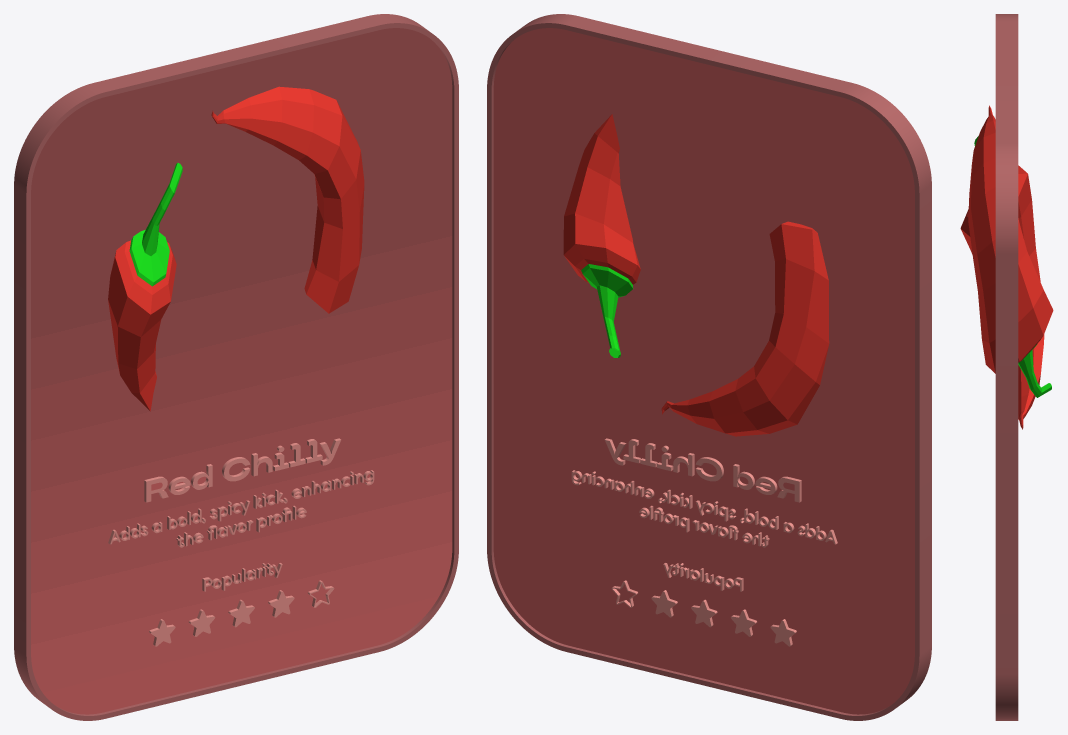
Rendered from red chilly.gltf.
The picture shows the model from 3 angles, left to right: view 1: azimuth 30°, elevation 25°; view 2: azimuth 150°, elevation 25°; view 3: azimuth 270°, elevation 25°; orthographic projection. The views are drawn at different scales.
Parts seen in each view (by area): view 1: Mesh_1024.002, Mesh_2361.002, Chili_Pepper_01.001, Mesh_2407.002, Mesh_2293.002, Mesh_2671.001; view 2: Mesh_1024.002, Chili_Pepper_01.001, Mesh_2361.002, Mesh_2407.002, Mesh_2293.002, Mesh_2671.001; view 3: Mesh_2361.002, Chili_Pepper_01.001.
Part boxes in pixels (x1,y1,x2,y2): Mesh_1024.002: (31, 28, 452, 714); Mesh_2361.002: (14, 14, 458, 720); Chili_Pepper_01.001: (108, 86, 364, 411); Mesh_2407.002: (108, 470, 374, 591); Mesh_2293.002: (144, 438, 340, 502); Mesh_2671.001: (149, 580, 334, 646); Mesh_1024.002: (493, 28, 914, 714); Chili_Pepper_01.001: (563, 114, 829, 436); Mesh_2361.002: (487, 14, 931, 720); Mesh_2407.002: (571, 470, 837, 591); Mesh_2293.002: (605, 438, 801, 502); Mesh_2671.001: (611, 580, 796, 646); Mesh_2361.002: (995, 14, 1018, 720); Chili_Pepper_01.001: (960, 105, 1053, 429).
Bounding box in the file's own units: 0.3625 × 0.5019 × 0.0743.
32 materials, 26 textured.
